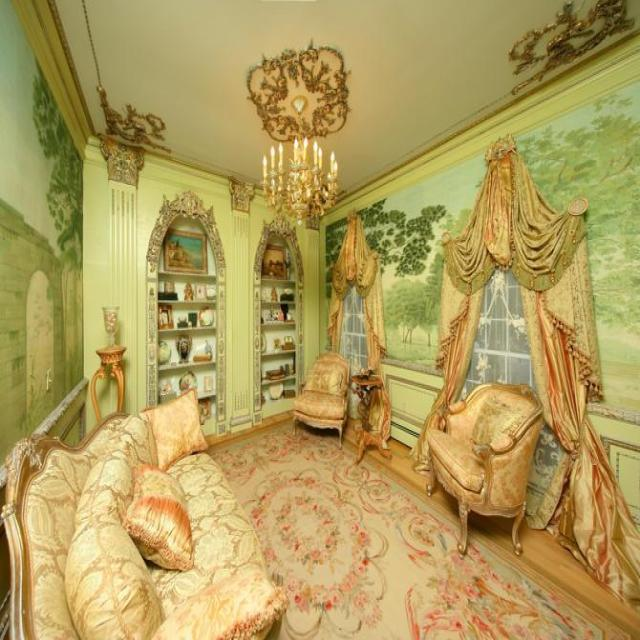chair: (292, 350, 351, 448)
curtains: (411, 131, 639, 609)
pillows: (120, 461, 195, 571), (139, 386, 208, 472)
rugs: (208, 419, 630, 639)
sofa: (0, 391, 289, 638)
windows: (144, 189, 226, 440)
